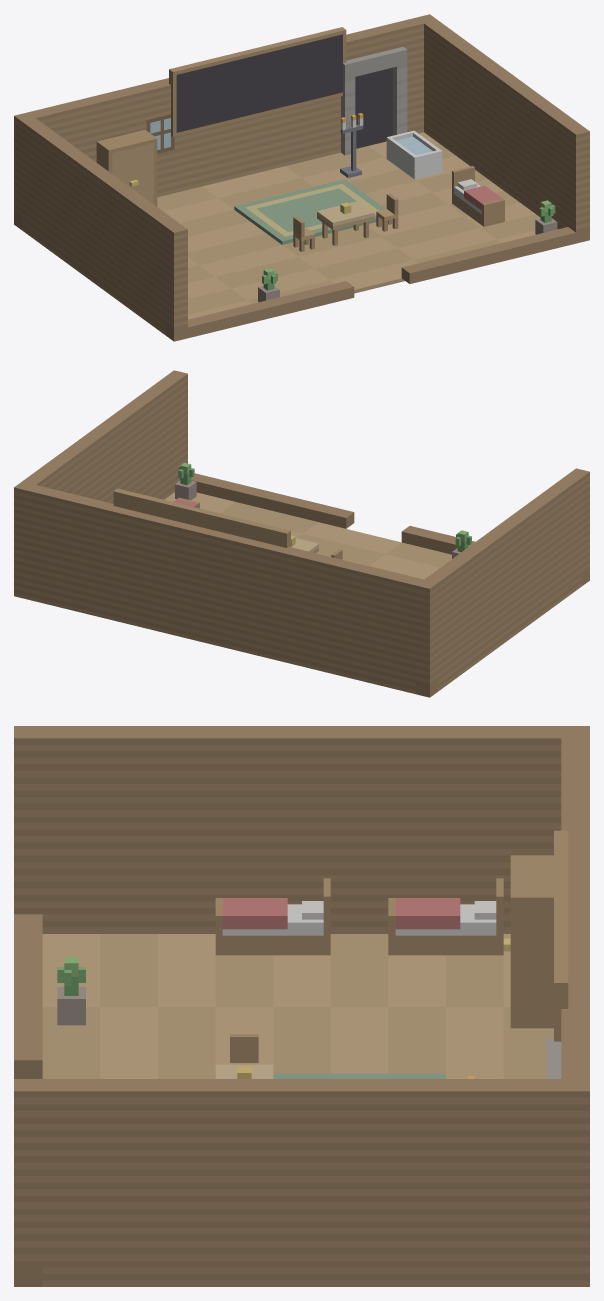
File: piece_auberge.glb
3 renders of one model, top to bottom at view 1: azimuth 30°, elevation 25°; view 2: azimuth 150°, elevation 25°; view 3: azimuth 270°, elevation 25°, orthographic. The views are drawn at different scales.
Parts seen in each view (by area): view 1: geometry_0; view 2: geometry_0; view 3: geometry_0.
Part boxes in pixels (<box>): geometry_0: <box>14,14,589,341</box>; geometry_0: <box>14,370,589,697</box>; geometry_0: <box>14,726,589,1286</box>.
Bounding box in the file's own units: 15 × 4.38 × 10.
